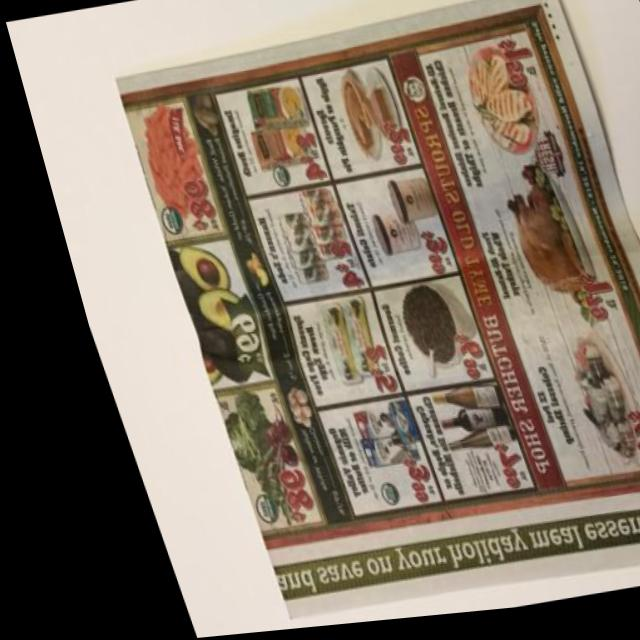paper: (48, 0, 640, 637)
